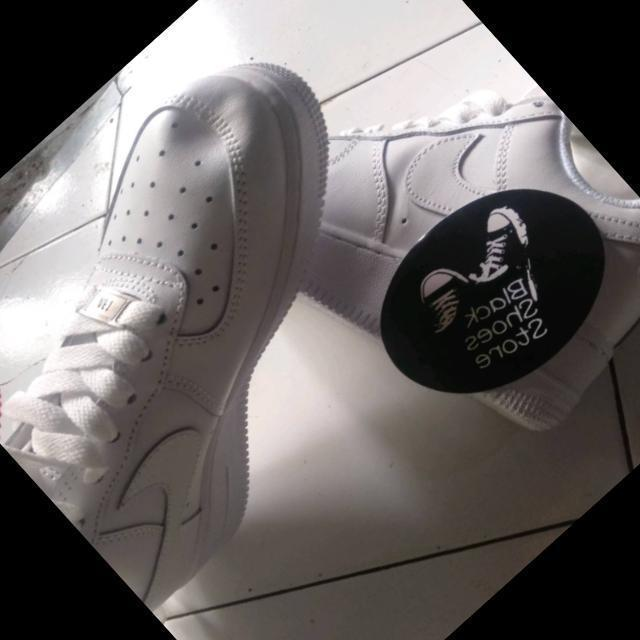nike fake air force: (0, 0, 507, 616)
